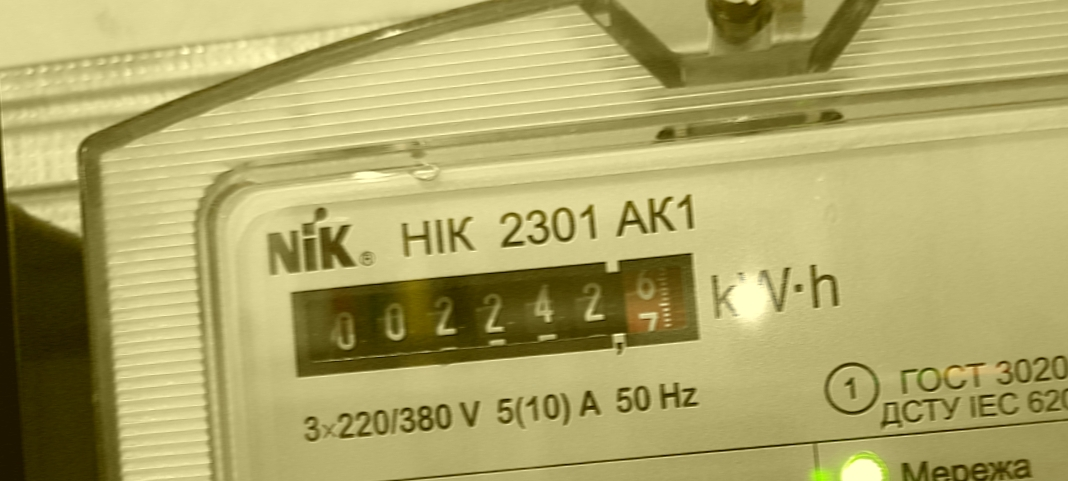0: (381, 298, 409, 343), (432, 293, 459, 337), (333, 307, 358, 353)
2: (579, 279, 607, 324), (481, 290, 507, 335)
4: (530, 281, 556, 326)
6: (633, 267, 659, 302)
7: (636, 309, 661, 333)
screen: (279, 240, 718, 393)
